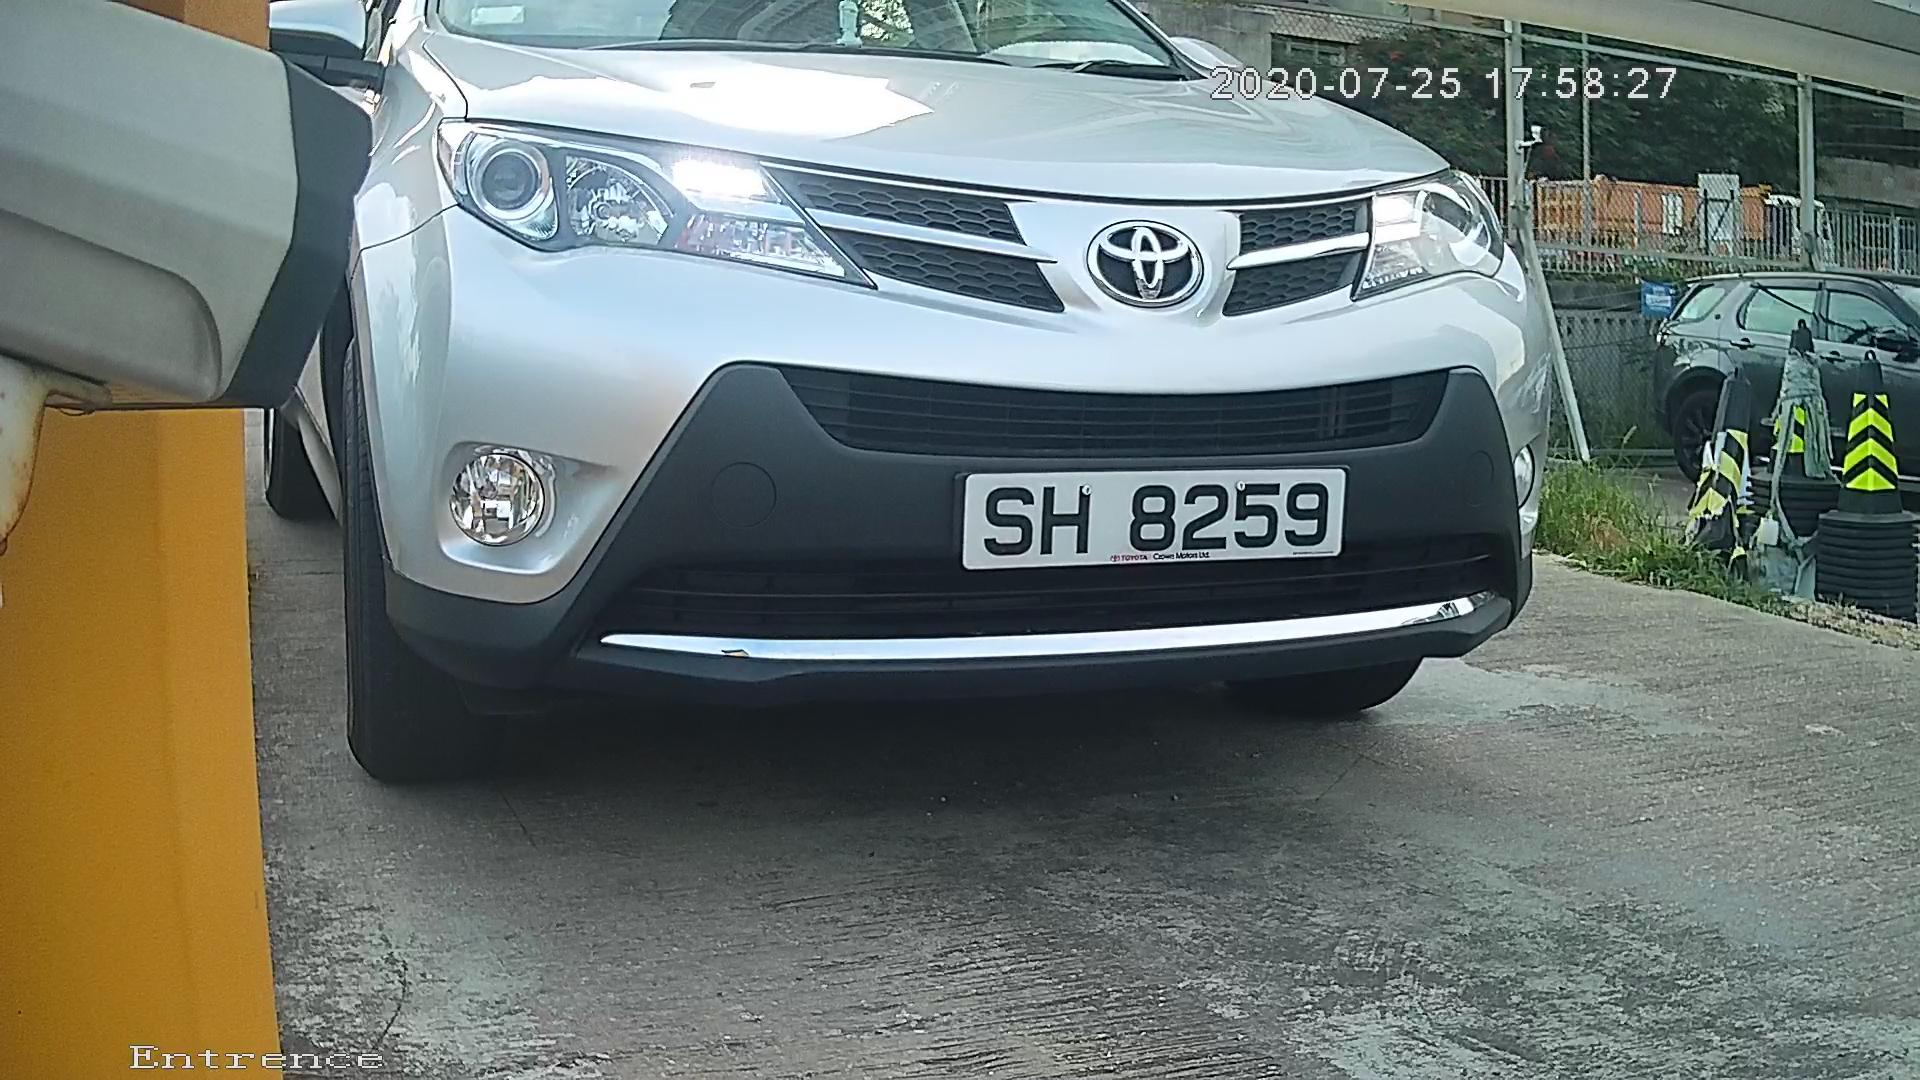License Plate: (918, 459, 1389, 579)
